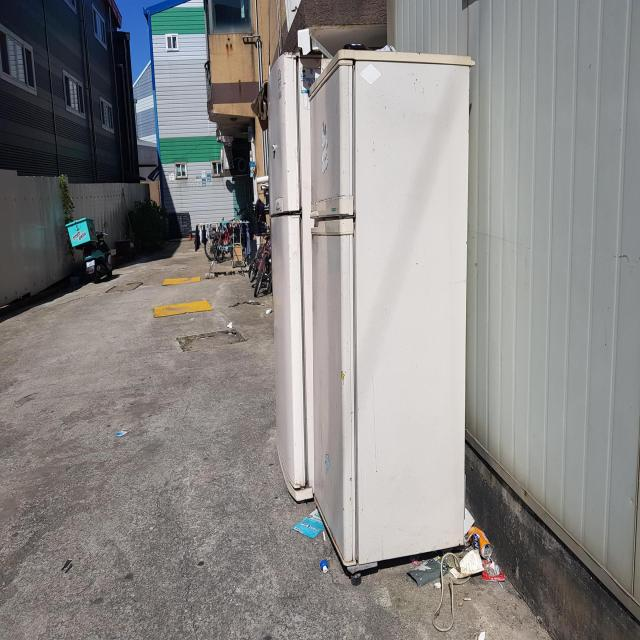refrigerator: (263, 43, 475, 588)
